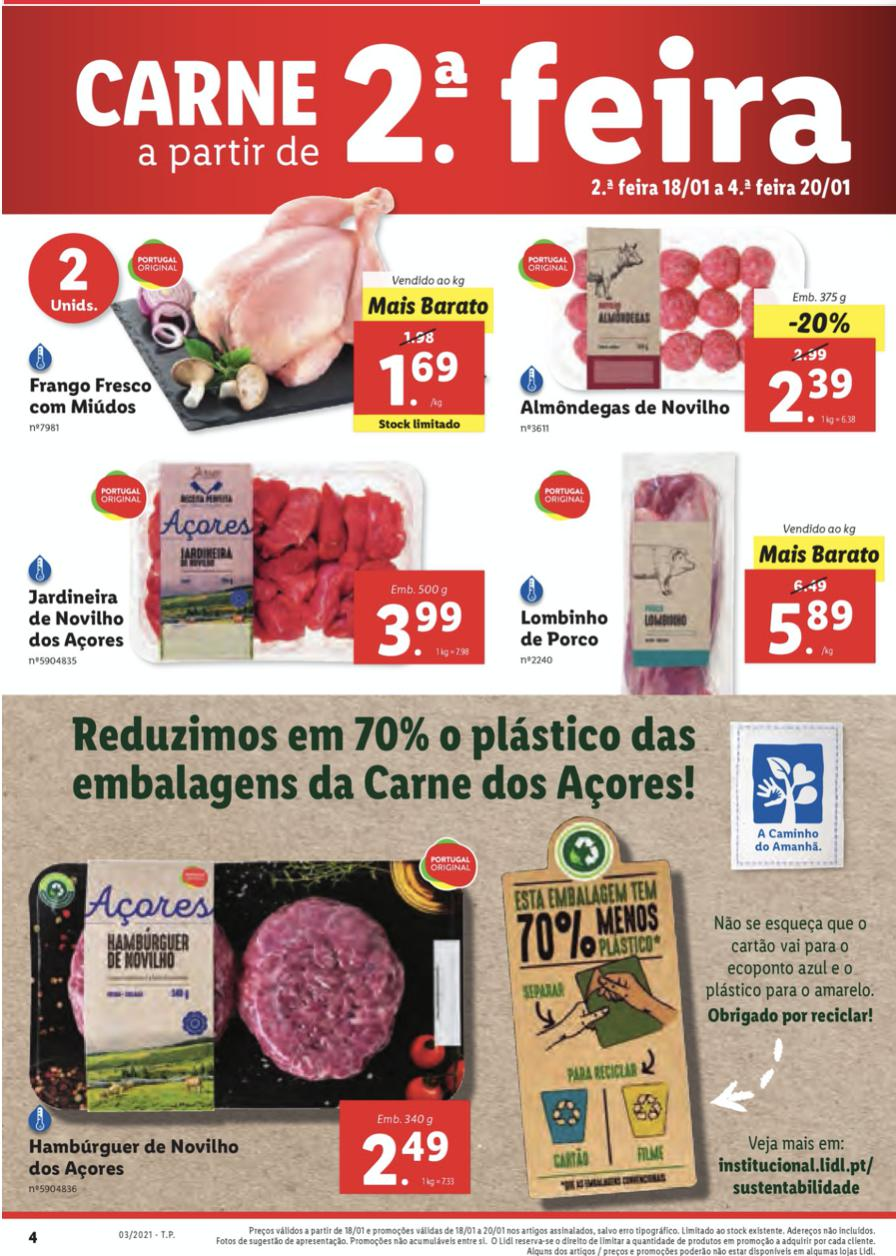name: (23, 1135, 241, 1180), (23, 583, 129, 654), (513, 394, 733, 425), (29, 375, 154, 419), (516, 605, 616, 649)
price: (762, 596, 860, 661), (765, 364, 858, 429), (355, 1127, 451, 1189), (374, 599, 468, 661), (377, 349, 463, 416)
product: (16, 832, 490, 1207), (16, 177, 496, 450), (16, 449, 499, 689), (498, 446, 893, 688), (501, 229, 888, 441)
promotion: (785, 307, 855, 341)
